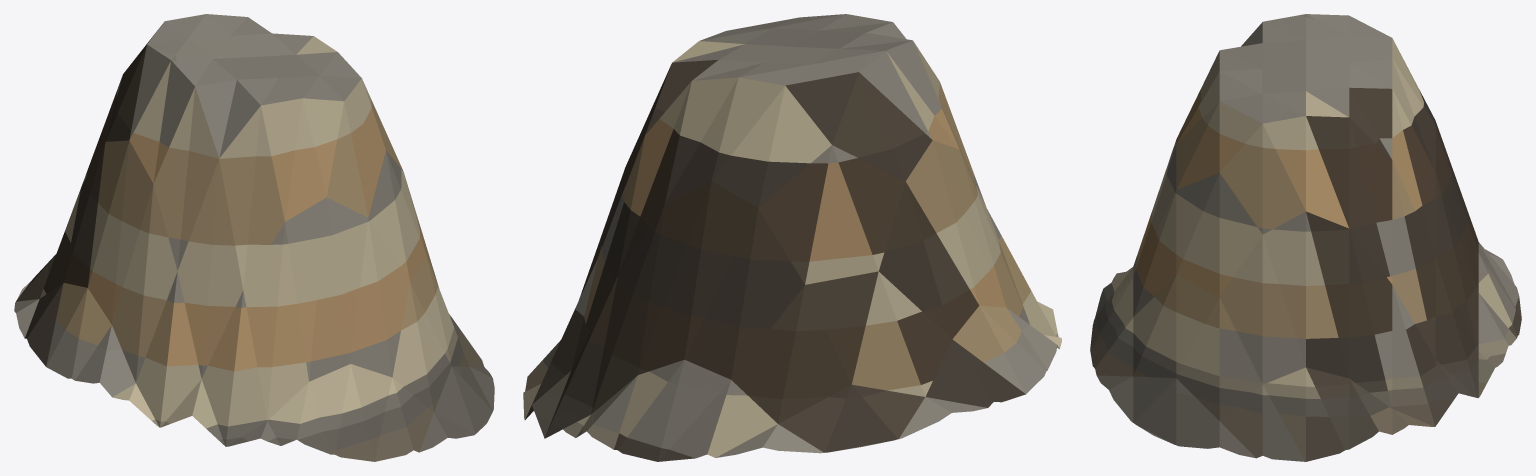
File: dam_pool_rock.glb
3 renders of one model, left to right at view 1: azimuth 30°, elevation 25°; view 2: azimuth 150°, elevation 25°; view 3: azimuth 270°, elevation 25°, orthographic. The views are drawn at different scales.
Parts seen in each view (by area): view 1: dam_pool_rock; view 2: dam_pool_rock; view 3: dam_pool_rock.
Part boxes in pixels (x1,y1,x2,y2): dam_pool_rock: (14,14,494,461); dam_pool_rock: (523,14,1061,461); dam_pool_rock: (1090,14,1521,461).
Bounding box in the file's own units: 20 × 16.47 × 20.
